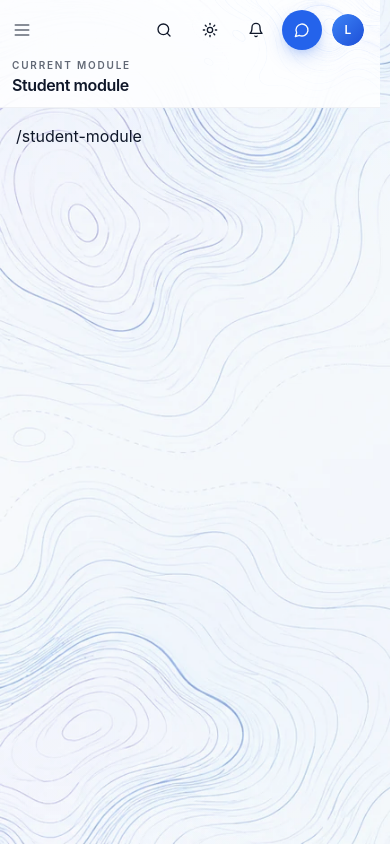
Test case: provides working CRM header controls and language navigation for student without staff requests
The width and height of the screenshot is (390, 844).
Check: the number of headers is 1, box x1=0 y1=0 x2=380 y2=108
Check: the button named "Search" is shown, box x1=144 y1=10 x2=184 y2=50
Click the button named "Open navigation" at (22, 30), box x1=4 y1=12 x2=40 y2=48
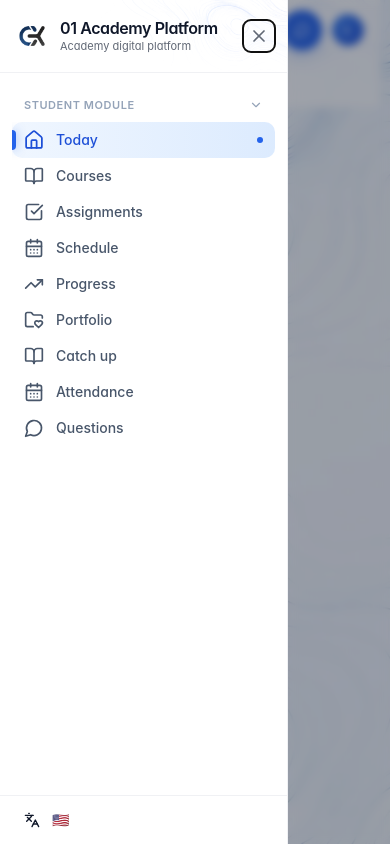
Check: the button named "Switch language" is shown, box x1=16 y1=804 x2=78 y2=836
